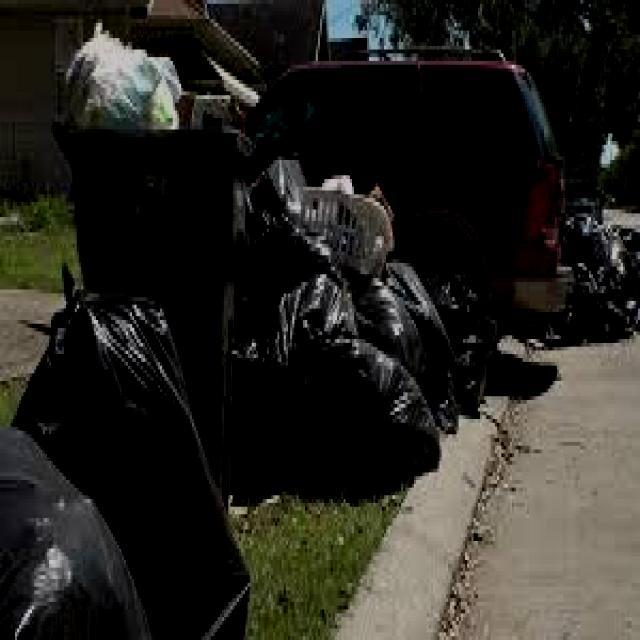high trash: (0, 158, 485, 640)
less trash: (565, 199, 640, 342)
